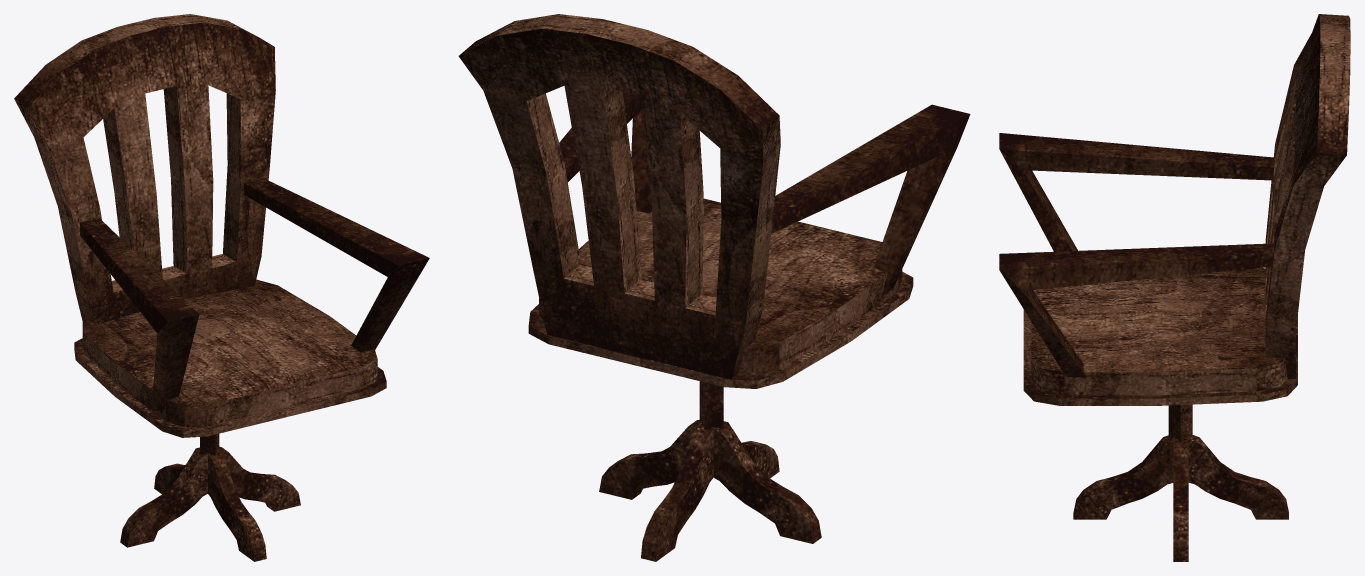
File: Silla.fbx
The picture shows the model from 3 angles, left to right: view 1: azimuth 30°, elevation 25°; view 2: azimuth 150°, elevation 25°; view 3: azimuth 270°, elevation 25°; orthographic projection. The views are drawn at different scales.
Parts seen in each view (by area): view 1: Silla; view 2: Silla; view 3: Silla.
Boxes of the visible parts, box(x1,y1,x2,y2) form: Silla: box(14, 14, 429, 561); Silla: box(458, 14, 970, 561); Silla: box(999, 14, 1350, 561).
Size of the model in its own units: 0.6995 by 1.13 by 0.7553.
